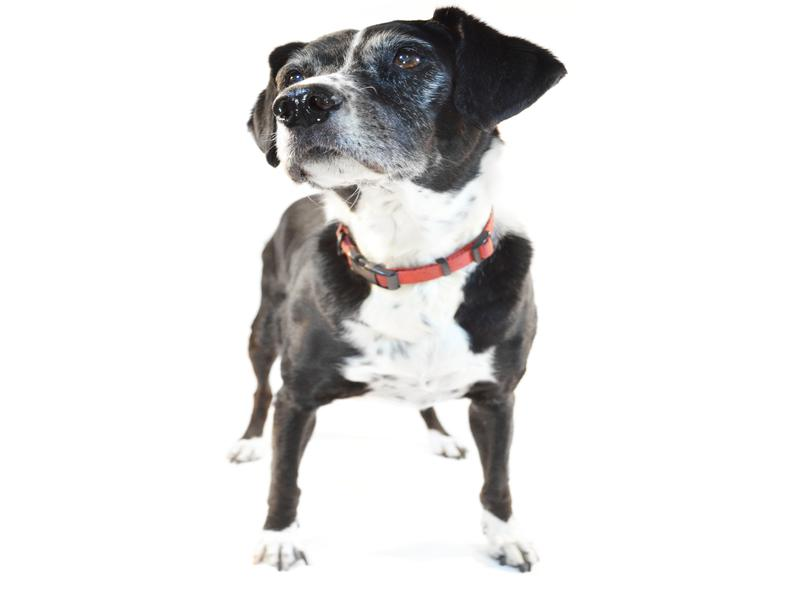dog_stand: (216, 3, 572, 589)
